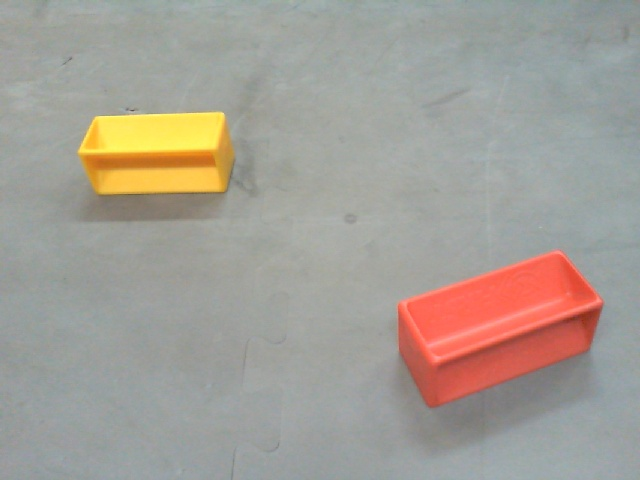RedSample: (396, 250, 605, 409)
YellowSample: (75, 106, 235, 204)
